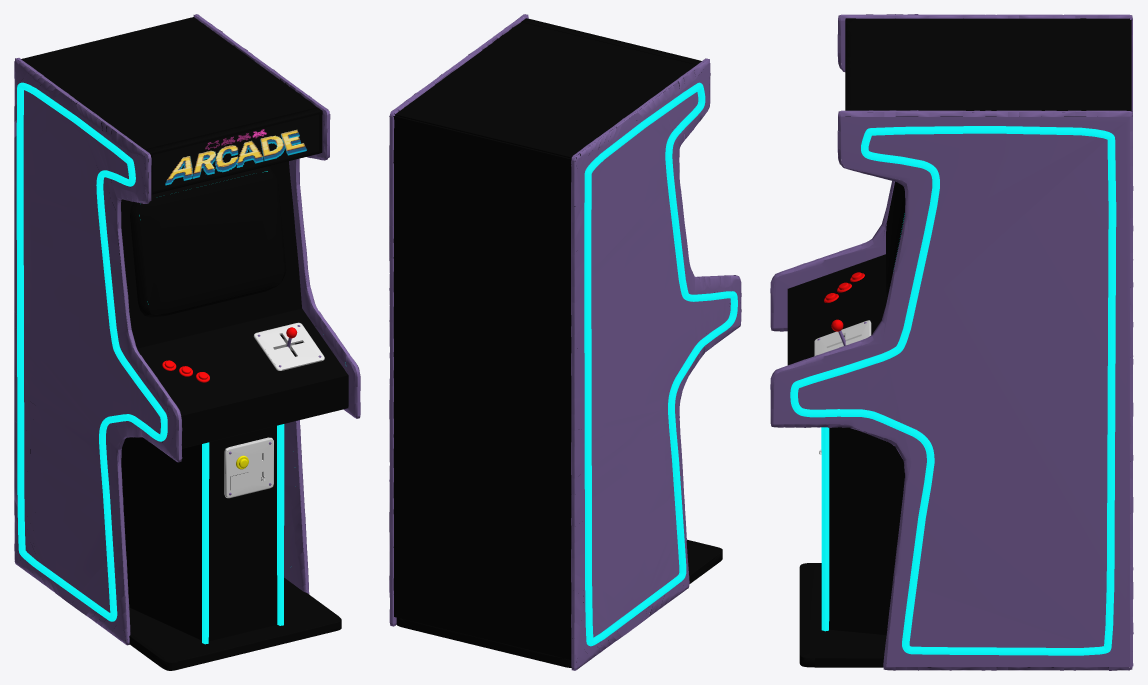
Rendered from Arcade-reduced.glb.
3 views of the same model, side by side, from view 1: azimuth 30°, elevation 25°; view 2: azimuth 150°, elevation 25°; view 3: azimuth 270°, elevation 25° (orthographic). The views are drawn at different scales.
Visible parts, largest first — view 1: object 4, object 16, object 13, object 9, object 10, object 22, Sweep_NURBS_1, object 3, object 21, object 15, object 17, object 5 (+5 smaller); view 2: object 14, object 4, object 16, Sweep_NURBS_1, object 3, object 15, object 18; view 3: object 3, object 16, Sweep_NURBS, object 8, object 22, object 4, object 15, object 32, object 13, object 18, object 11.
Part boxes in pixels (x1,y1,x2,y2): object 4: [14, 58, 182, 645]; object 16: [18, 17, 317, 156]; object 13: [130, 166, 286, 317]; object 9: [30, 437, 201, 640]; object 10: [208, 425, 277, 641]; object 22: [137, 308, 348, 415]; Sweep_NURBS_1: [16, 82, 167, 621]; object 3: [193, 14, 360, 594]; object 21: [111, 161, 301, 348]; object 15: [96, 577, 341, 670]; object 17: [153, 114, 318, 191]; object 5: [181, 375, 348, 448]; object 14: [393, 115, 577, 659]; object 4: [571, 58, 741, 670]; object 16: [394, 22, 701, 158]; Sweep_NURBS_1: [584, 82, 737, 646]; object 3: [389, 14, 528, 626]; object 15: [396, 539, 722, 667]; object 18: [521, 18, 701, 64]; object 3: [770, 110, 1133, 670]; object 16: [856, 18, 1129, 116]; Sweep_NURBS: [790, 126, 1116, 655]; object 8: [829, 427, 904, 634]; object 22: [788, 254, 887, 365]; object 4: [770, 14, 1133, 569]; object 15: [799, 563, 1108, 667]; object 32: [821, 427, 829, 631]; object 13: [886, 181, 905, 297]; object 18: [845, 18, 856, 116]; object 11: [814, 320, 871, 356].
Bounding box in the file's own units: 64.97 × 161 × 94.87.
Materials: 9 (1 with a texture image).
